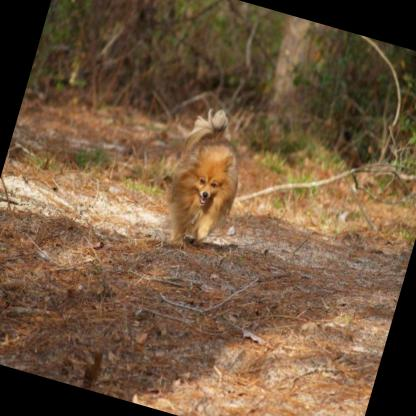Pomeranian: (152, 98, 260, 262)
